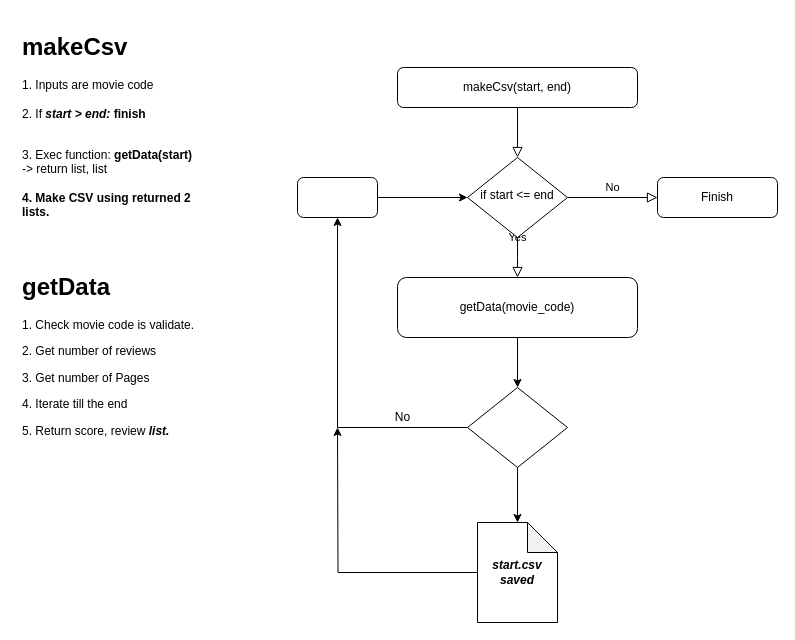
Image size: 795x640. Some labels were removed from this diagram. Each missing label, with the box of its shape:
Check movie code: (466, 386, 568, 468)
start += 1: (296, 176, 378, 218)
